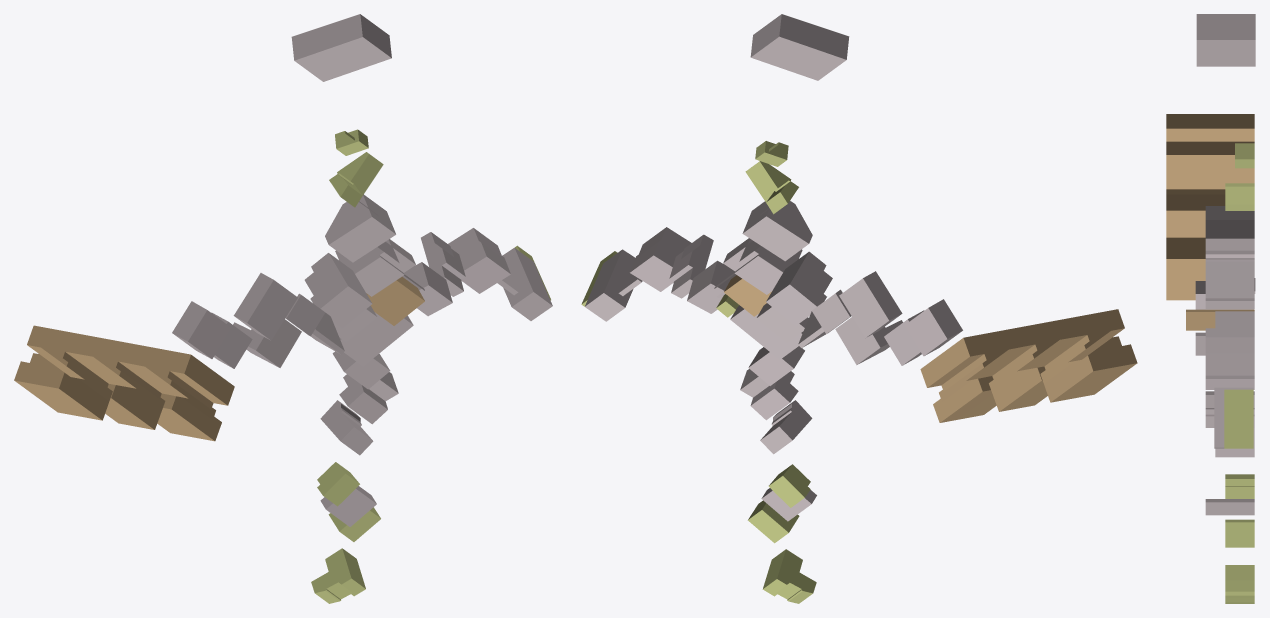
3 renders of one model, left to right at view 1: azimuth 30°, elevation 25°; view 2: azimuth 150°, elevation 25°; view 3: azimuth 270°, elevation 25°, orthographic. The views are drawn at different scales.
Parts seen in each view (by area): view 1: 0_1_3_2_2_1_2; view 2: 0_1_3_2_2_1_2; view 3: 0_1_3_2_2_1_2.
Boxes of the visible parts, bbox=[...] form: 0_1_3_2_2_1_2: bbox=[14, 14, 552, 603]; 0_1_3_2_2_1_2: bbox=[581, 14, 1137, 603]; 0_1_3_2_2_1_2: bbox=[1166, 14, 1255, 603].
Bounding box in the file's own units: 186 × 193 × 27.3.
